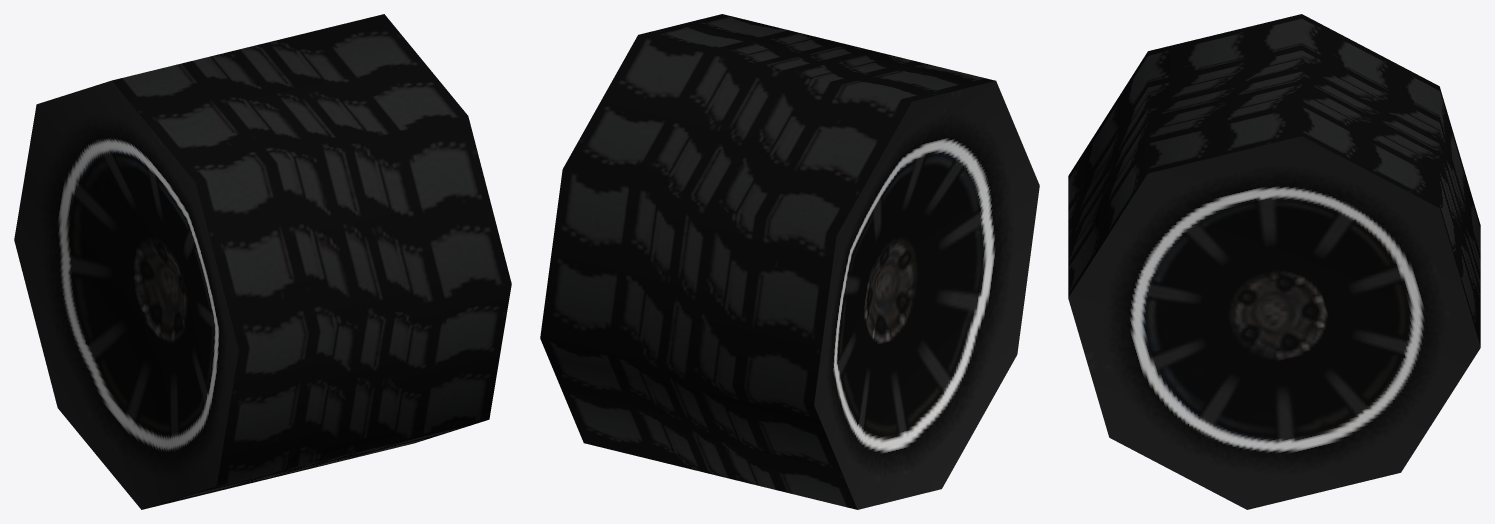
Rendered from car_01_front_wheel.glb.
3 views of the same model, side by side, from view 1: azimuth 30°, elevation 25°; view 2: azimuth 150°, elevation 25°; view 3: azimuth 270°, elevation 25° (orthographic). The views are drawn at different scales.
Parts seen in each view (by area): view 1: wheels_front; view 2: wheels_front; view 3: wheels_front.
Part boxes in pixels (bbox=[...]): wheels_front: bbox=[14, 14, 511, 509]; wheels_front: bbox=[540, 14, 1039, 509]; wheels_front: bbox=[1068, 14, 1480, 509].
Bounding box in the file's own units: 0.1147 × 0.1637 × 0.1637.
Materials: 1 (1 with a texture image).
